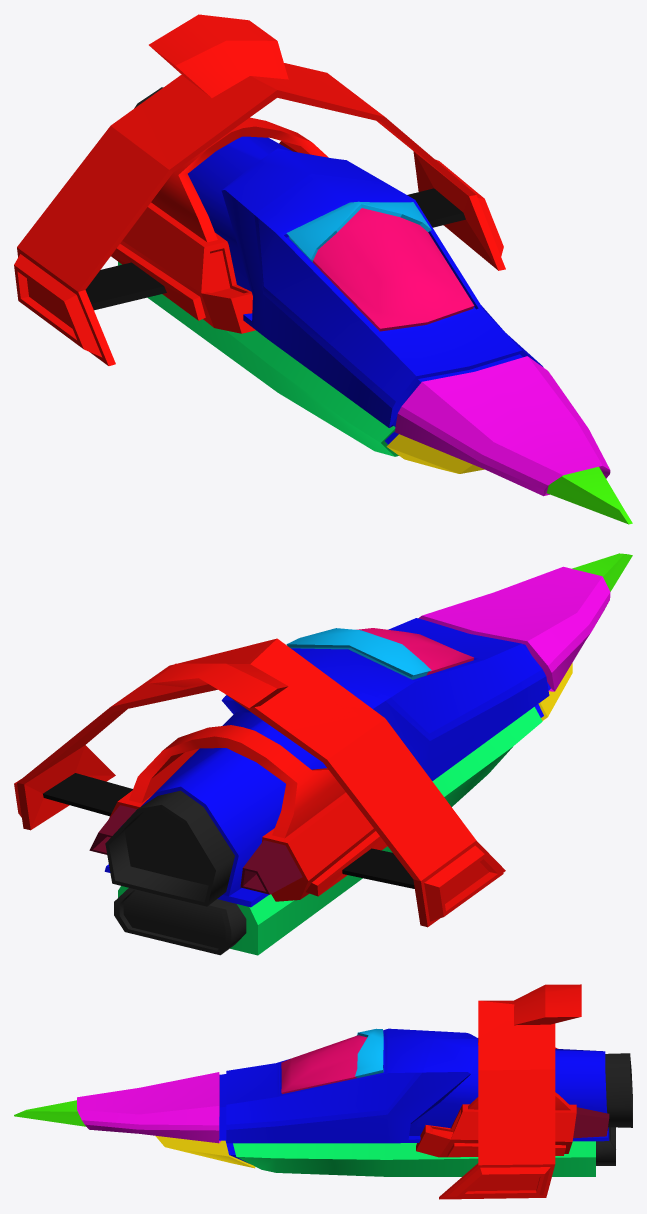
The model's file is ship_enemy.fbx.
3 views of the same model, one above another, from view 1: azimuth 30°, elevation 25°; view 2: azimuth 150°, elevation 25°; view 3: azimuth 270°, elevation 25° (orthographic). The views are drawn at different scales.
Parts seen in each view (by area): view 1: Box002, Box001, Object002, Object004, Object010, Object006, Object020, Object, Object012, Object018; view 2: Box002, Box001, Object002, Object008, Object010, Box003, Object006, Object016, Object018, Object004, Object020, Object (+1 smaller); view 3: Box001, Box002, Object010, Object002, Object004, Object008, Object012, Object006, Object, Object014, Box003.
Boxes of the visible parts, bbox=[...] form: Box002: bbox=[14, 14, 505, 365]; Box001: bbox=[188, 136, 543, 444]; Object002: bbox=[394, 356, 610, 496]; Object004: bbox=[312, 208, 474, 331]; Object010: bbox=[118, 262, 398, 456]; Object006: bbox=[286, 201, 431, 261]; Object020: bbox=[85, 262, 166, 310]; Object: bbox=[546, 466, 632, 524]; Object012: bbox=[386, 434, 484, 473]; Object018: bbox=[407, 188, 465, 227]; Box002: bbox=[14, 638, 505, 927]; Box001: bbox=[104, 618, 550, 907]; Object002: bbox=[418, 566, 610, 691]; Object008: bbox=[105, 790, 234, 906]; Object010: bbox=[118, 707, 542, 955]; Box003: bbox=[114, 888, 246, 955]; Object006: bbox=[286, 628, 431, 679]; Object016: bbox=[240, 840, 302, 894]; Object018: bbox=[43, 773, 132, 816]; Object004: bbox=[356, 628, 473, 675]; Object020: bbox=[342, 848, 414, 888]; Object: bbox=[572, 553, 632, 591]; Box001: bbox=[219, 1028, 609, 1163]; Box002: bbox=[416, 984, 581, 1199]; Object010: bbox=[233, 1141, 595, 1176]; Object002: bbox=[77, 1072, 220, 1143]; Object004: bbox=[281, 1035, 367, 1093]; Object008: bbox=[605, 1053, 632, 1127]; Object012: bbox=[155, 1135, 255, 1168]; Object006: bbox=[355, 1028, 383, 1078]; Object: bbox=[14, 1100, 86, 1126]; Object014: bbox=[573, 1107, 609, 1138]; Box003: bbox=[596, 1127, 615, 1165].
Bounding box in the file's own units: 70.8 × 40.14 × 136.
